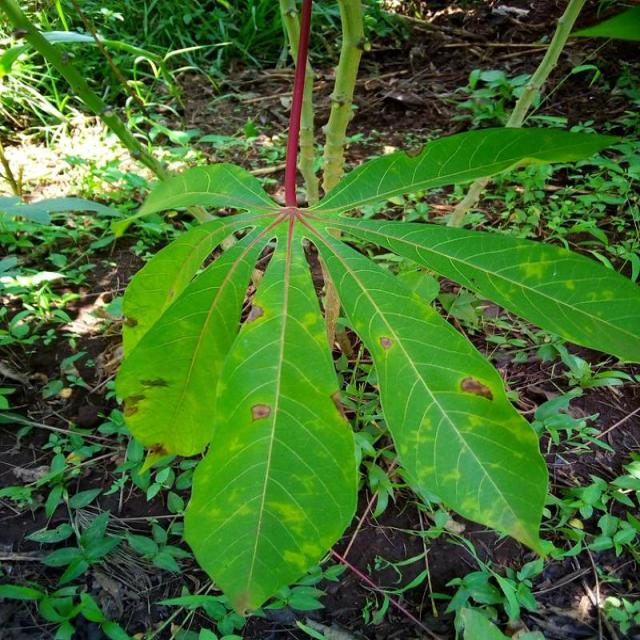cassava leaf: (111, 2, 638, 617), (298, 212, 552, 559), (181, 216, 359, 616), (114, 210, 282, 469)
